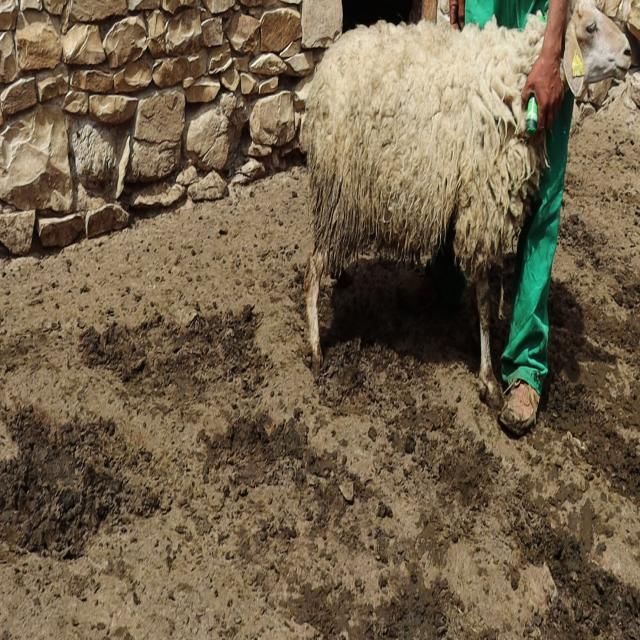Score_3: (301, 19, 548, 396)
